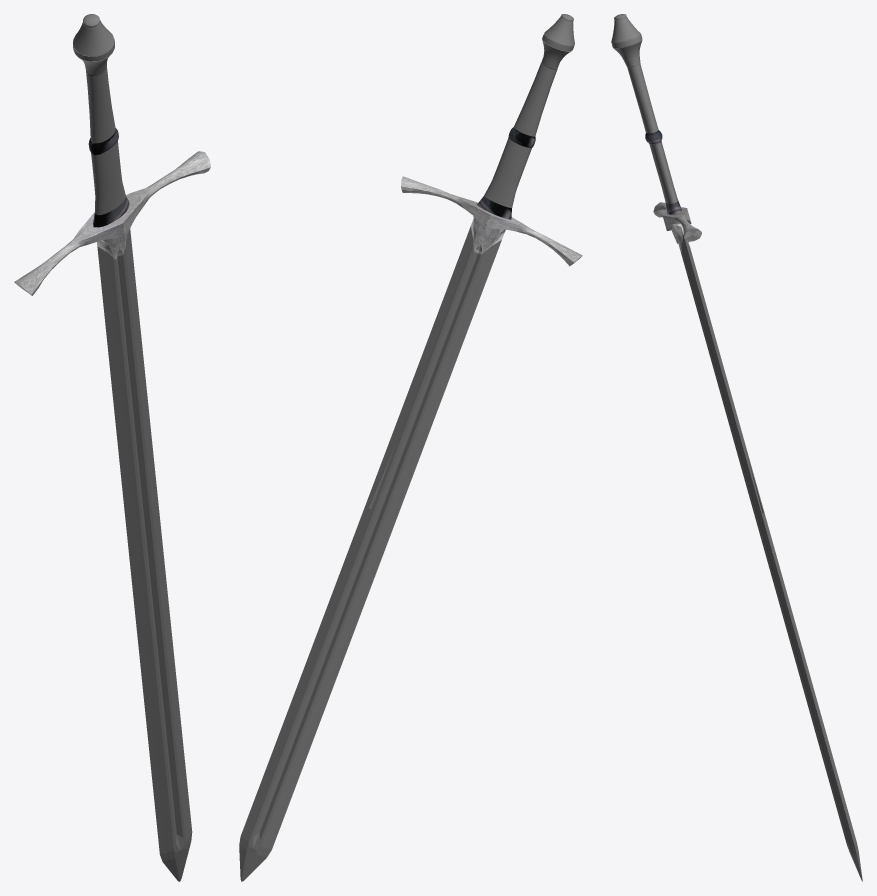
File: sword.obj
The picture shows the model from 3 angles, left to right: view 1: azimuth 30°, elevation 25°; view 2: azimuth 150°, elevation 25°; view 3: azimuth 270°, elevation 25°; orthographic projection. The views are drawn at different scales.
Visible parts, largest first — view 1: sword:Box001; view 2: sword:Box001; view 3: sword:Box001.
Part boxes in pixels (x1=…): sword:Box001: x1=14, y1=14, x2=210, y2=881; sword:Box001: x1=239, y1=14, x2=582, y2=881; sword:Box001: x1=611, y1=14, x2=862, y2=881.
Bounding box in the file's own units: 51.61 × 169 × 49.59.
4 materials, 1 textured.
